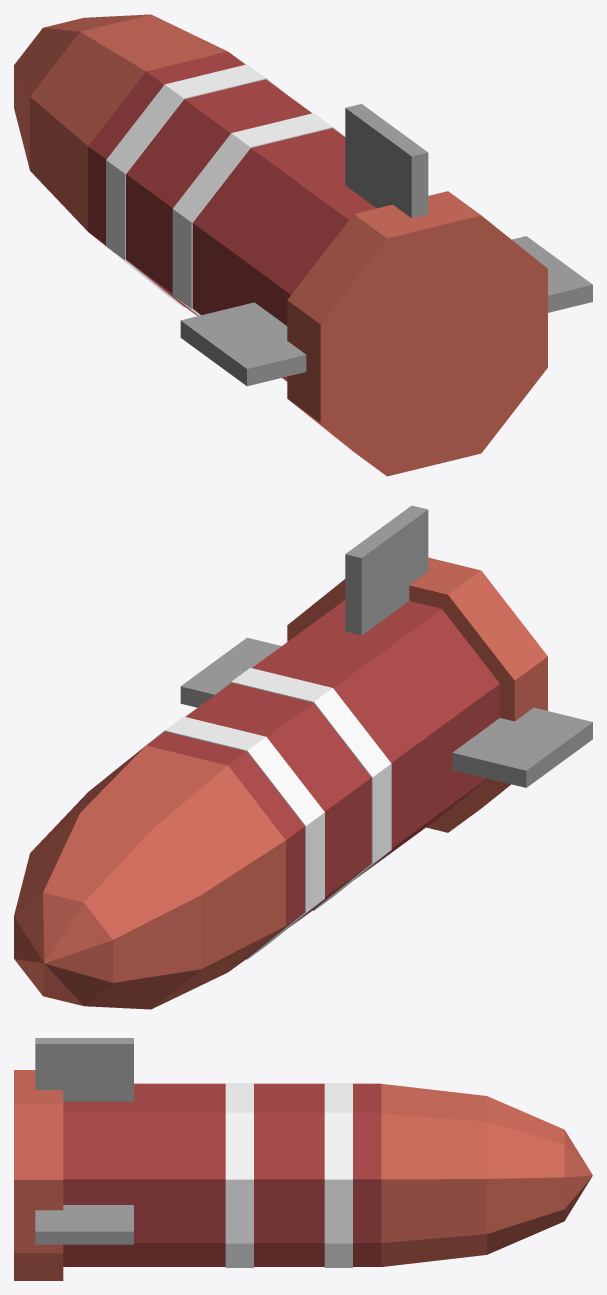
The model's file is ce_ammo2_minirocket_icp_a.obj.
3 renders of one model, top to bottom at view 1: azimuth 30°, elevation 25°; view 2: azimuth 150°, elevation 25°; view 3: azimuth 270°, elevation 25°, orthographic. The views are drawn at different scales.
Parts seen in each view (by area): view 1: ce_ammo2_minirocket_icp_a_0, ce_ammo2_minirocket_icp_a_1, ce_ammo2_minirocket_icp_a_6, ce_ammo2_minirocket_icp_a_3, ce_ammo2_minirocket_icp_a_9, ce_ammo2_minirocket_icp_a_10, ce_ammo2_minirocket_icp_a_4, ce_ammo2_minirocket_icp_a_2, ce_ammo2_minirocket_icp_a_5, ce_ammo2_minirocket_icp_a_7; view 2: ce_ammo2_minirocket_icp_a_1, ce_ammo2_minirocket_icp_a_6, ce_ammo2_minirocket_icp_a_7, ce_ammo2_minirocket_icp_a_3, ce_ammo2_minirocket_icp_a_0, ce_ammo2_minirocket_icp_a_9, ce_ammo2_minirocket_icp_a_8, ce_ammo2_minirocket_icp_a_10, ce_ammo2_minirocket_icp_a_2, ce_ammo2_minirocket_icp_a_4, ce_ammo2_minirocket_icp_a_5; view 3: ce_ammo2_minirocket_icp_a_1, ce_ammo2_minirocket_icp_a_6, ce_ammo2_minirocket_icp_a_3, ce_ammo2_minirocket_icp_a_7, ce_ammo2_minirocket_icp_a_0, ce_ammo2_minirocket_icp_a_10, ce_ammo2_minirocket_icp_a_2, ce_ammo2_minirocket_icp_a_4, ce_ammo2_minirocket_icp_a_5, ce_ammo2_minirocket_icp_a_9, ce_ammo2_minirocket_icp_a_8.
Boxes of the visible parts, x1,y1,x2,y2 form: ce_ammo2_minirocket_icp_a_0: (287,191,547,476); ce_ammo2_minirocket_icp_a_1: (192,128,376,381); ce_ammo2_minirocket_icp_a_6: (30,14,227,231); ce_ammo2_minirocket_icp_a_3: (126,79,311,315); ce_ammo2_minirocket_icp_a_9: (180,236,592,386); ce_ammo2_minirocket_icp_a_10: (345,104,428,218); ce_ammo2_minirocket_icp_a_4: (106,64,284,307); ce_ammo2_minirocket_icp_a_2: (172,113,344,315); ce_ammo2_minirocket_icp_a_5: (88,51,245,245); ce_ammo2_minirocket_icp_a_7: (14,14,149,169); ce_ammo2_minirocket_icp_a_1: (252,600,499,878); ce_ammo2_minirocket_icp_a_6: (30,745,285,1008); ce_ammo2_minirocket_icp_a_7: (14,813,201,1009); ce_ammo2_minirocket_icp_a_3: (185,683,371,926); ce_ammo2_minirocket_icp_a_0: (287,557,547,832); ce_ammo2_minirocket_icp_a_9: (180,637,592,787); ce_ammo2_minirocket_icp_a_8: (14,892,112,1005); ce_ammo2_minirocket_icp_a_10: (345,505,428,635); ce_ammo2_minirocket_icp_a_2: (214,668,391,910); ce_ammo2_minirocket_icp_a_4: (107,716,324,959); ce_ammo2_minirocket_icp_a_5: (146,731,304,969); ce_ammo2_minirocket_icp_a_1: (63,1083,225,1266); ce_ammo2_minirocket_icp_a_6: (381,1084,486,1266); ce_ammo2_minirocket_icp_a_3: (254,1083,324,1266); ce_ammo2_minirocket_icp_a_7: (487,1096,564,1254); ce_ammo2_minirocket_icp_a_0: (14,1070,63,1280); ce_ammo2_minirocket_icp_a_10: (35,1038,133,1101); ce_ammo2_minirocket_icp_a_2: (225,1083,253,1267); ce_ammo2_minirocket_icp_a_4: (324,1083,352,1267); ce_ammo2_minirocket_icp_a_5: (353,1083,381,1266); ce_ammo2_minirocket_icp_a_9: (35,1205,133,1244); ce_ammo2_minirocket_icp_a_8: (564,1130,592,1220).
Bounding box in the file's own units: 0.42 × 0.3481 × 0.82.
